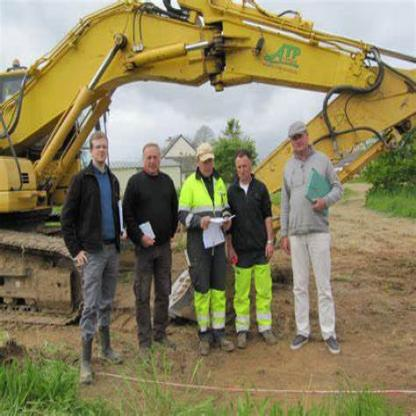person: (270, 106, 350, 358), (59, 112, 122, 388), (117, 124, 174, 360), (174, 118, 230, 354), (228, 143, 277, 359)
